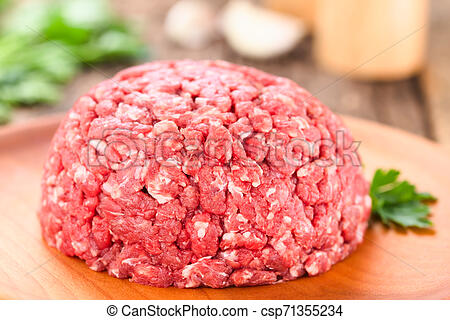ground_beef: (52, 53, 370, 282)
